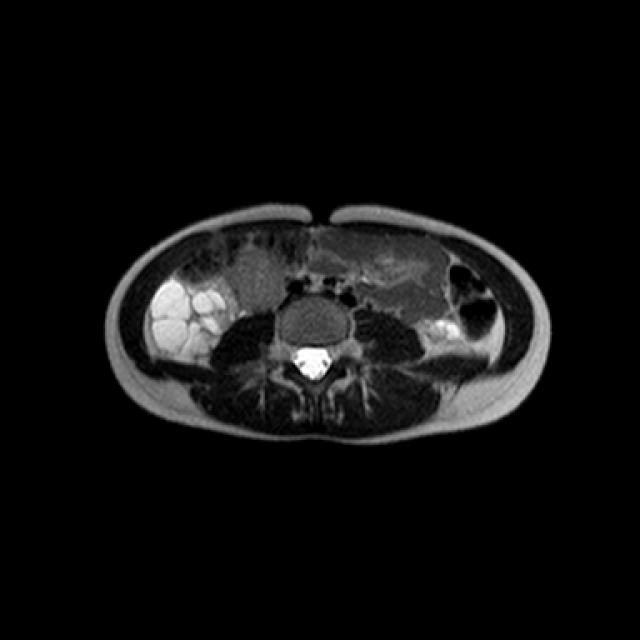sag: (150, 247, 283, 365)
sol: (421, 317, 466, 353)
